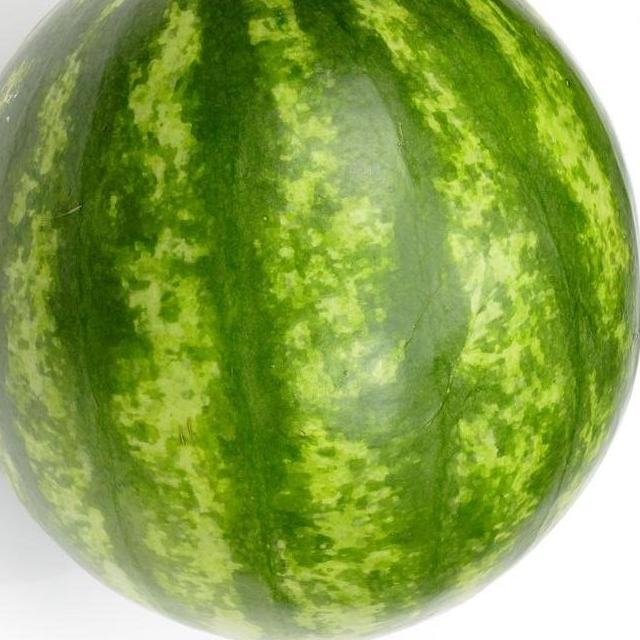watermelon: (0, 0, 598, 640)
